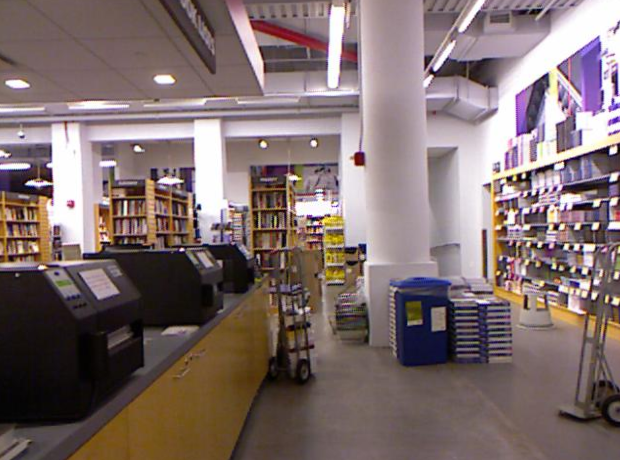cabinetDoor: (192, 351, 226, 442), (157, 375, 191, 460)
pole: (366, 0, 425, 275), (52, 121, 92, 253), (193, 121, 223, 244), (343, 115, 364, 245)
